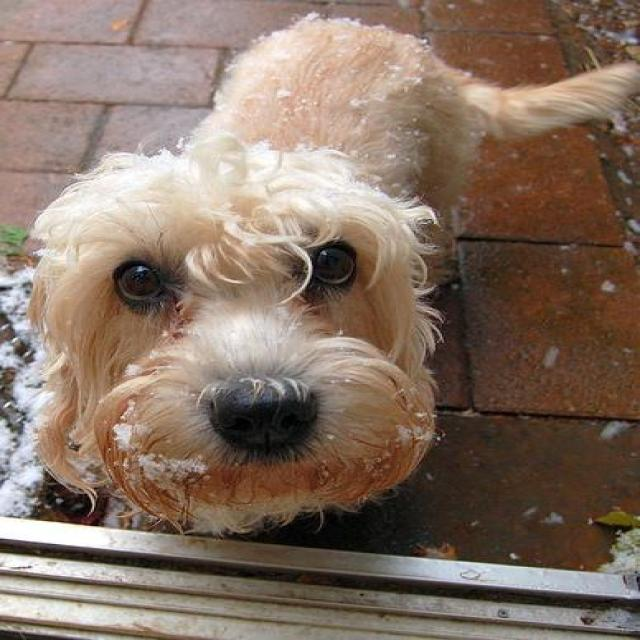dandie_dinmont: (29, 10, 636, 535)
